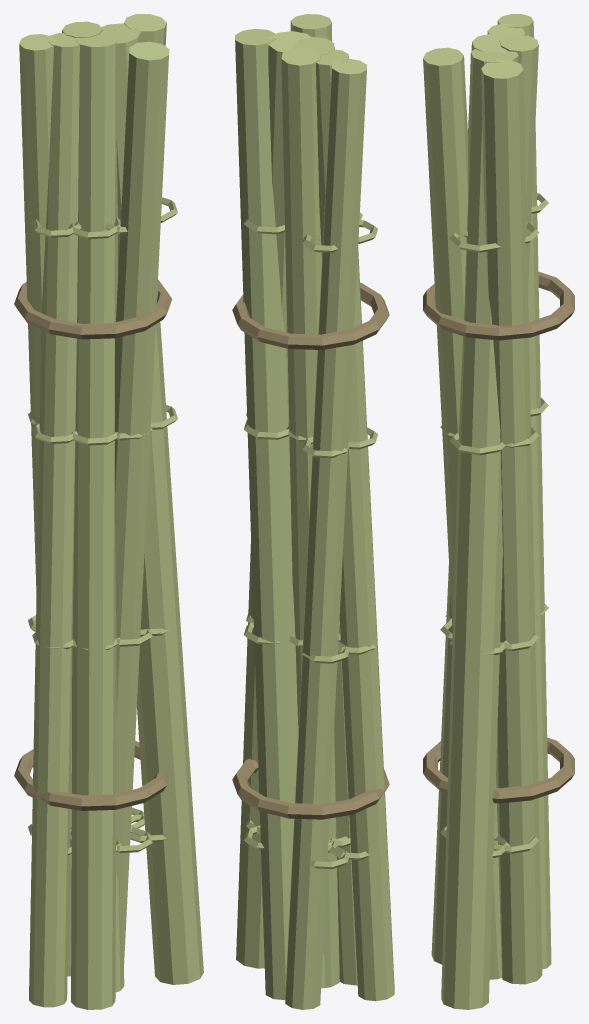
Rendered from prop_guadua.glb.
The picture shows the model from 3 angles, left to right: view 1: azimuth 30°, elevation 25°; view 2: azimuth 150°, elevation 25°; view 3: azimuth 270°, elevation 25°; orthographic projection.
Visible parts, largest first — view 1: PropGuadua; view 2: PropGuadua; view 3: PropGuadua.
Part boxes in pixels (x1,y1,x2,y2): PropGuadua: [14, 14, 203, 1009]; PropGuadua: [232, 14, 394, 1009]; PropGuadua: [423, 14, 574, 1009].
Size of the model in its own units: 0.2871 by 1.6 by 0.238.
